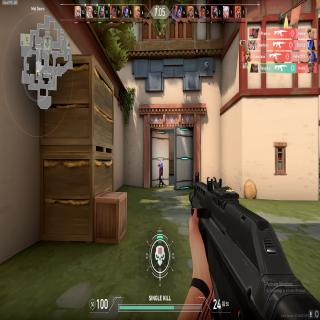ENEMY-BODY: (157, 157, 164, 188)
ENEMY-HEAD: (159, 158, 161, 162)
